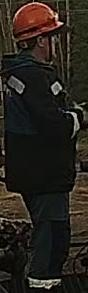gloves: (71, 101, 88, 128)
helmet: (12, 1, 64, 41)
vest: (1, 58, 77, 193)
